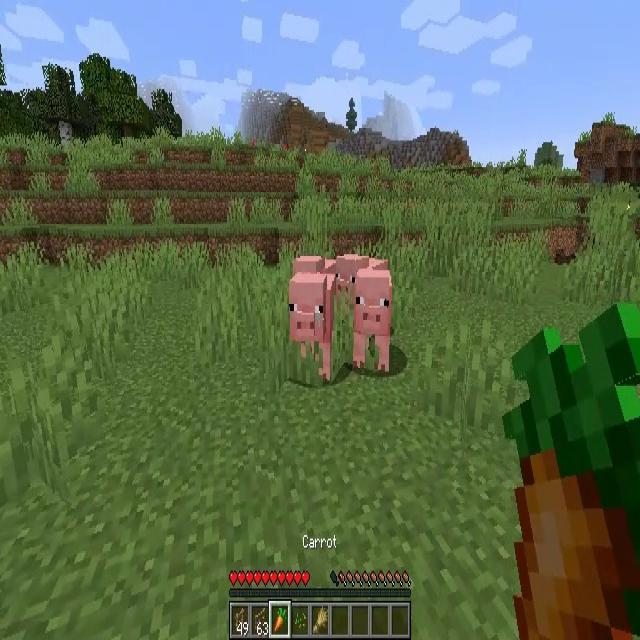pig: (290, 271, 334, 381), (354, 272, 391, 372), (336, 255, 386, 296), (294, 255, 334, 277)
